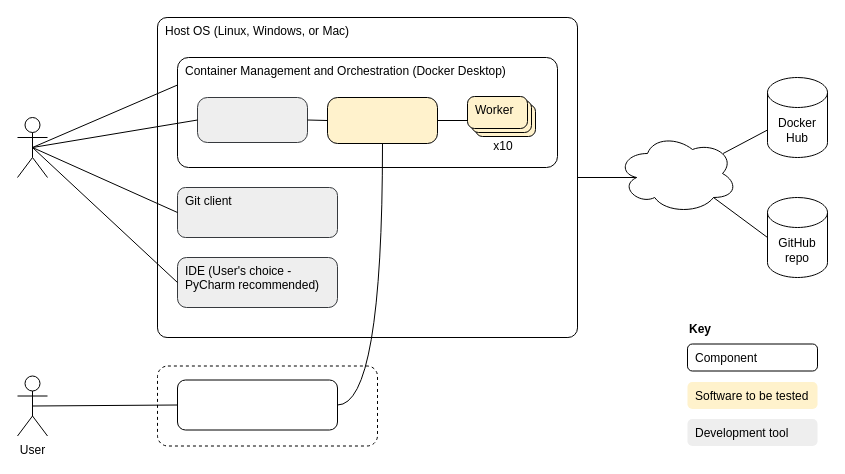
Some shapes in this 845 by 474 pixel diagram are drawn without their labels. Each missing label, with the centre of its shape:
Dev: (32,147)
Internet: (677,173)
Load Tester (Apache Bench): (252,119)
Reverse Proxy (Nginx): (382,120)
Web browser: (257,404)
